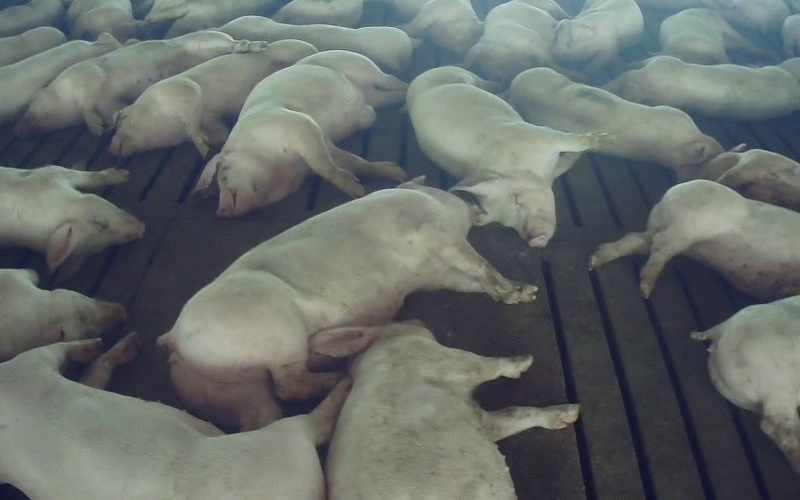pig: (159, 184, 531, 429), (309, 322, 577, 499), (196, 50, 406, 217), (407, 67, 601, 245), (15, 31, 263, 136), (110, 40, 316, 156), (511, 68, 722, 168), (691, 296, 799, 472), (605, 56, 799, 119), (0, 33, 120, 125), (218, 16, 412, 71), (677, 149, 799, 210), (389, 0, 483, 55), (660, 8, 751, 64)
